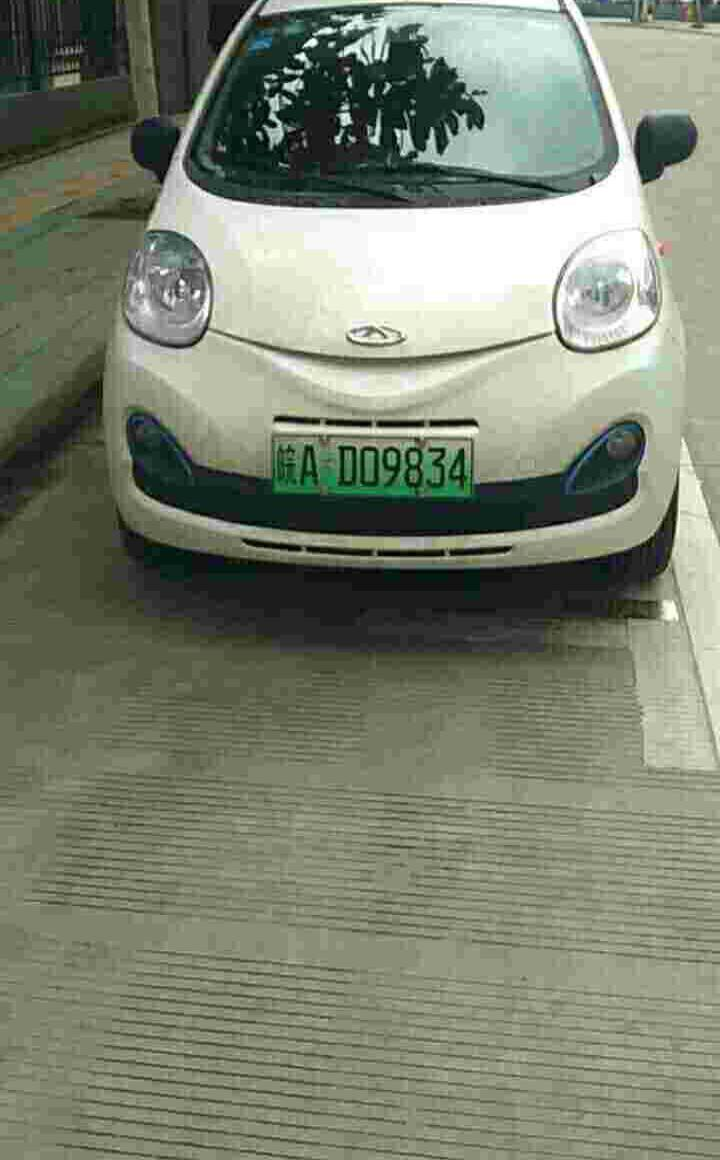car: (271, 428, 475, 502)
